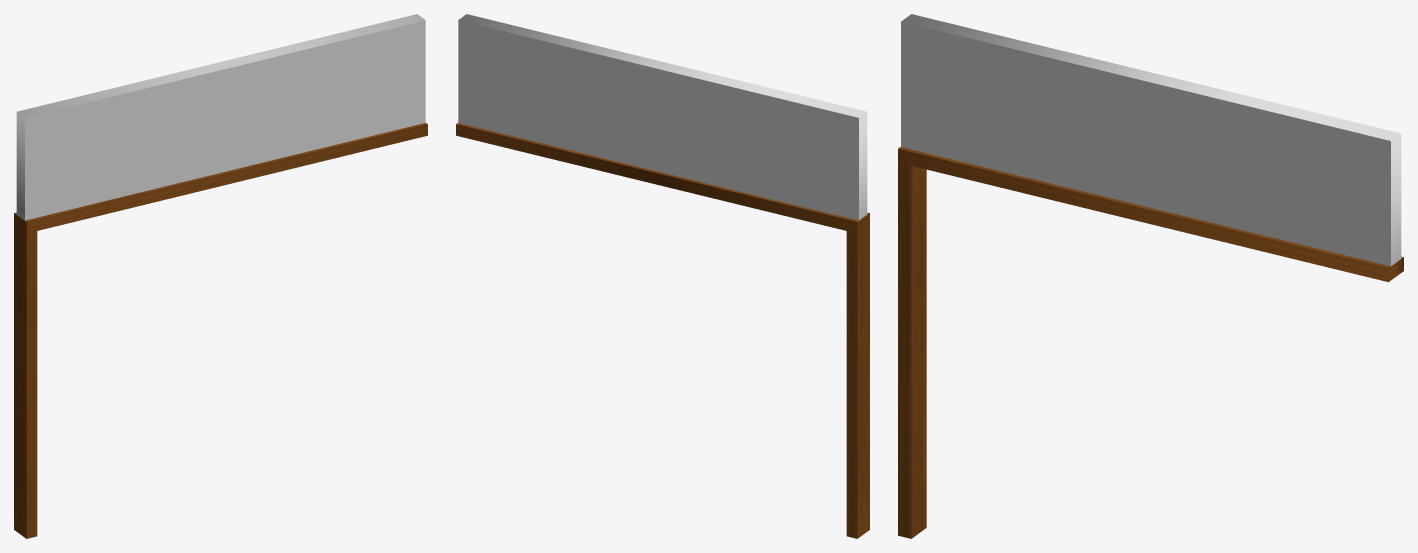
File: WallCafeteria.fbx
The picture shows the model from 3 angles, left to right: view 1: azimuth 30°, elevation 25°; view 2: azimuth 150°, elevation 25°; view 3: azimuth 330°, elevation 25°; orthographic projection. The views are drawn at different scales.
Visible parts, largest first — view 1: walldoor.001; view 2: walldoor.001; view 3: walldoor.001.
Boxes of the visible parts, x1,y1,x2,y2 form: walldoor.001: (14,14,427,538); walldoor.001: (456,14,869,538); walldoor.001: (898,14,1403,538).
Bounding box in the file's own units: 200 × 200 × 10.79.
Materials: 1 (1 with a texture image).
